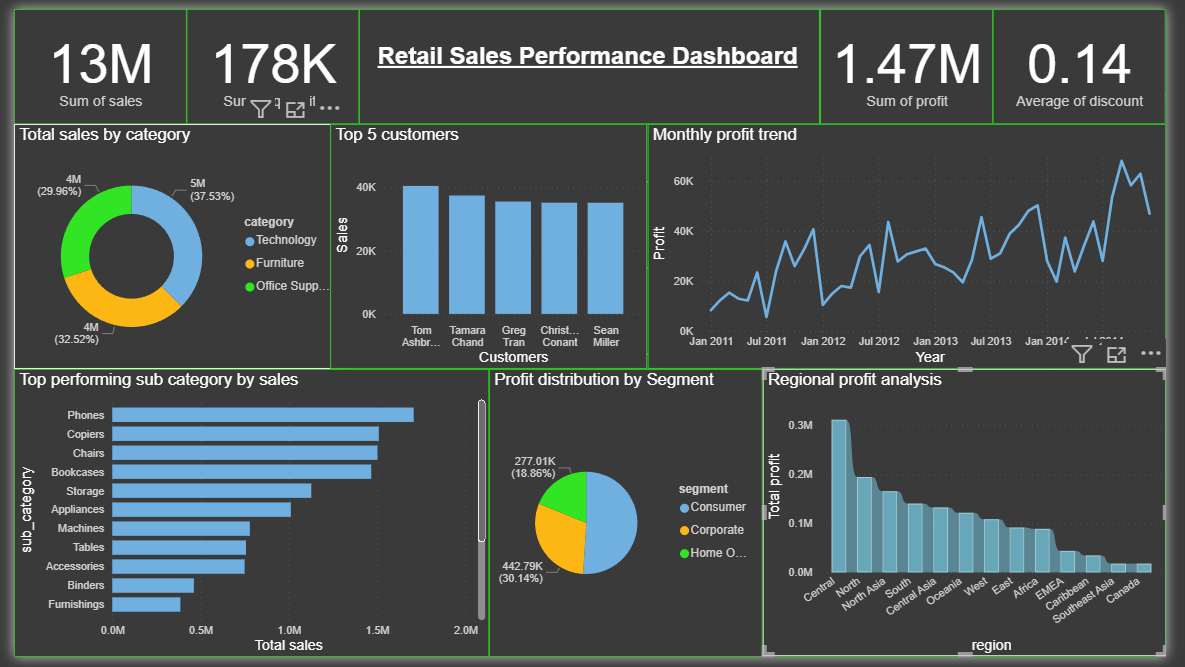

This screenshot's page, from the dashboard's own definition file:
{"tool":"powerbi","page":{"name":"Page 1","canvas":[1280,720],"ordinal":0},"visuals":[{"type":"barChart","title":"Top performing sub category by sales","fields":{"Category":["Cleaned_SuperStoreOrders.sub_category"],"Y":["Sum(Cleaned_SuperStoreOrders.sales)"]},"box":[0,400,528,320],"z":0},{"type":"lineChart","title":" Monthly profit trend","fields":{"Category":["Cleaned_SuperStoreOrders.order_date.Variation.Date Hierarchy.Year","Cleaned_SuperStoreOrders.order_date.Variation.Date Hierarchy.Month"],"Y":["Sum(Cleaned_SuperStoreOrders.profit)"]},"box":[704,128,576,272],"z":1000},{"type":"card","fields":{"Values":["Sum(Cleaned_SuperStoreOrders.sales)"]},"box":[0,0,192,128],"z":2000},{"type":"card","fields":{"Values":["Sum(Cleaned_SuperStoreOrders.profit)"]},"box":[896,0,192,128],"z":3000},{"type":"card","fields":{"Values":["Avg(Cleaned_SuperStoreOrders.discount)"]},"box":[1088,0,192,128],"z":4000},{"type":"card","fields":{"Values":["Sum(Cleaned_SuperStoreOrders.quantity)"]},"box":[192,0,192,128],"z":5000},{"type":"ribbonChart","title":"Regional profit analysis","fields":{"Category":["Cleaned_SuperStoreOrders.region"],"Y":["Sum(Cleaned_SuperStoreOrders.profit)"]},"box":[832,400,448,320],"z":6000},{"type":"donutChart","title":"Total sales by category","fields":{"Category":["Cleaned_SuperStoreOrders.category"],"Y":["Sum(Cleaned_SuperStoreOrders.sales)"]},"box":[0,128,368,272],"z":7000},{"type":"columnChart","title":"Top 5 customers","fields":{"Category":["Cleaned_SuperStoreOrders.customer_name"],"Y":["Sum(Cleaned_SuperStoreOrders.sales)"]},"box":[352,128,352,272],"z":8000},{"type":"pieChart","title":"Profit distribution by Segment","fields":{"Category":["Cleaned_SuperStoreOrders.segment"],"Y":["Sum(Cleaned_SuperStoreOrders.profit)"]},"box":[528,400,304,320],"z":9000},{"type":"textbox","box":[384,0,512,128],"z":9001}]}

Visuals, with their boxes in screenshot pixels (x1, y1, x2, y2), scaled from the page's 1280x720 canvas onto the 1185x667 screenshot:
"Top performing sub category by sales" barChart: 0,371,489,666
" Monthly profit trend" lineChart: 652,119,1184,371
card - Sum(Cleaned_SuperStoreOrders.sales): 0,0,178,119
card - Sum(Cleaned_SuperStoreOrders.profit): 830,0,1007,119
card - Avg(Cleaned_SuperStoreOrders.discount): 1007,0,1184,119
card - Sum(Cleaned_SuperStoreOrders.quantity): 178,0,356,119
"Regional profit analysis" ribbonChart: 770,371,1184,666
"Total sales by category" donutChart: 0,119,341,371
"Top 5 customers" columnChart: 326,119,652,371
"Profit distribution by Segment" pieChart: 489,371,770,666
textbox: 356,0,830,119
